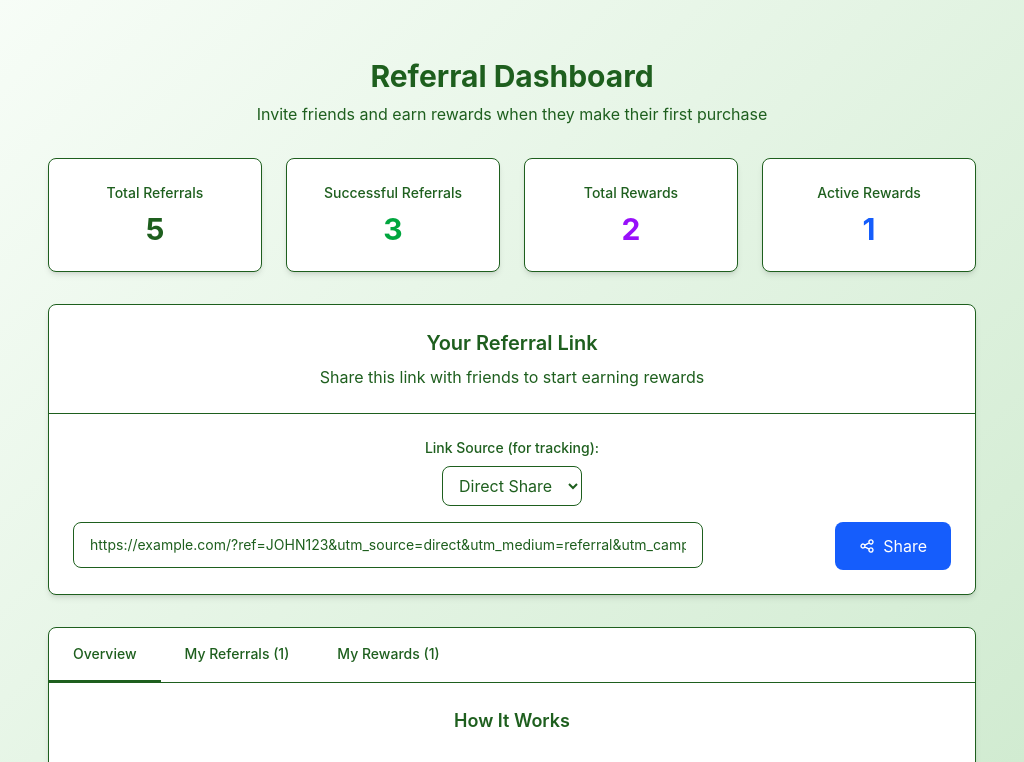
Scenario: CustomerReferralDashboardPage › Referrals Tab › should display referral list
The image size is (1024, 762).
Click the button "My Referrals (1)".
click(237, 655)  # box [160, 628, 313, 682]
(page scrolled)
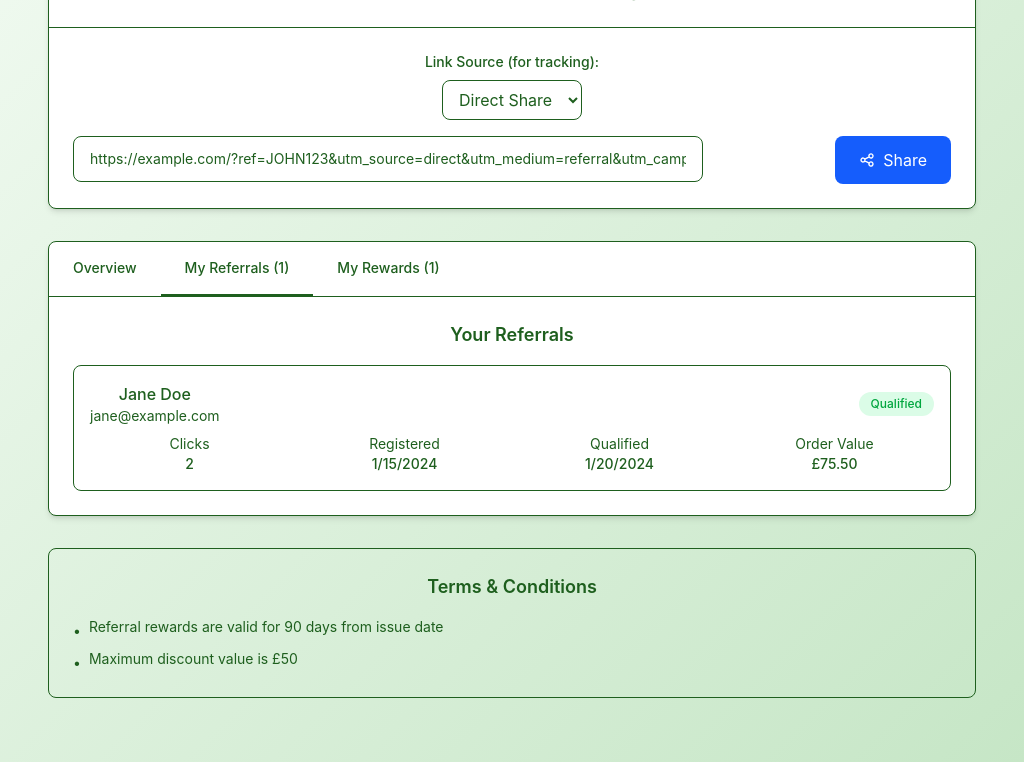
Expected: the text "Jane Doe" is shown, [119, 384, 191, 404]
Expected: the text "jane@example.com" is shown, [90, 406, 220, 426]
Expected: the text "£75.50" is shown, [811, 455, 858, 472]
